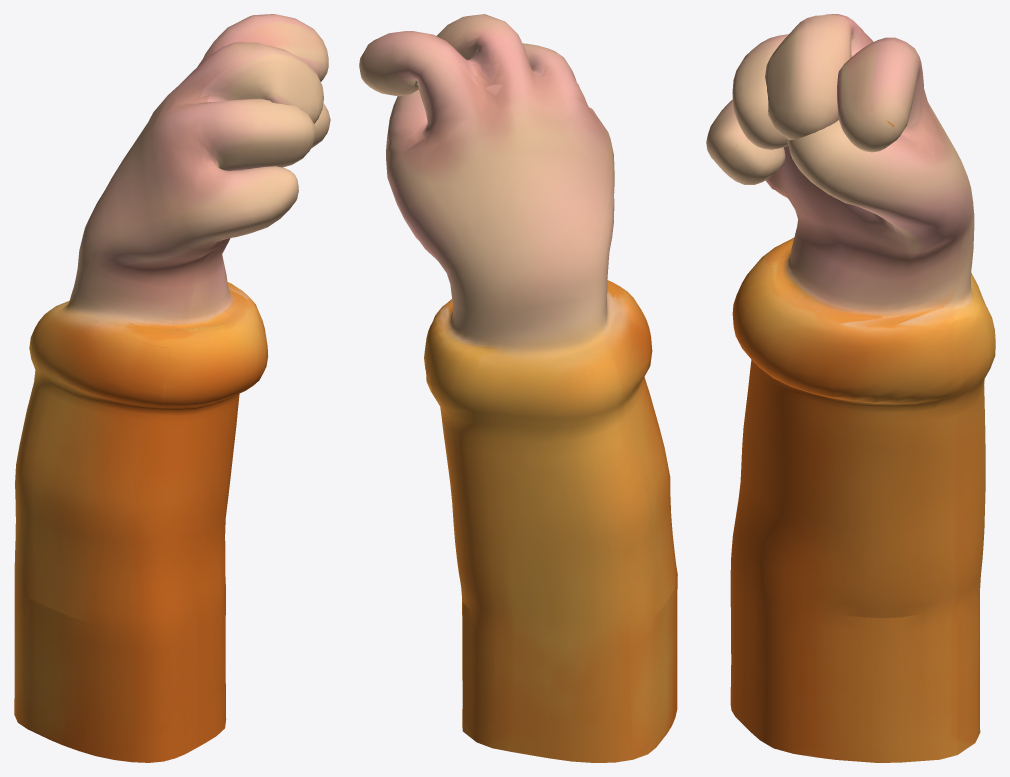
File: MANO CERRADA.fbx
3 renders of one model, left to right at view 1: azimuth 30°, elevation 25°; view 2: azimuth 150°, elevation 25°; view 3: azimuth 270°, elevation 25°, orthographic. The views are drawn at different scales.
Visible parts, largest first — view 1: Retopo_model.001; view 2: Retopo_model.001; view 3: Retopo_model.001.
Part boxes in pixels (x1,y1,x2,y2): Retopo_model.001: [14, 14, 330, 762]; Retopo_model.001: [359, 14, 677, 762]; Retopo_model.001: [706, 14, 995, 762].
Size of the model in its own units: 74.91 by 159 by 55.24.
Materials: 1 (1 with a texture image).
